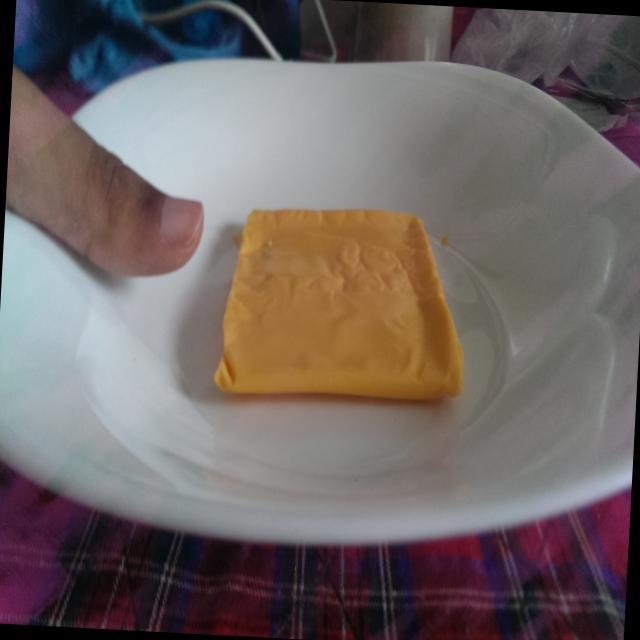Cheese: (208, 190, 478, 425)
Finger: (74, 119, 214, 299)
